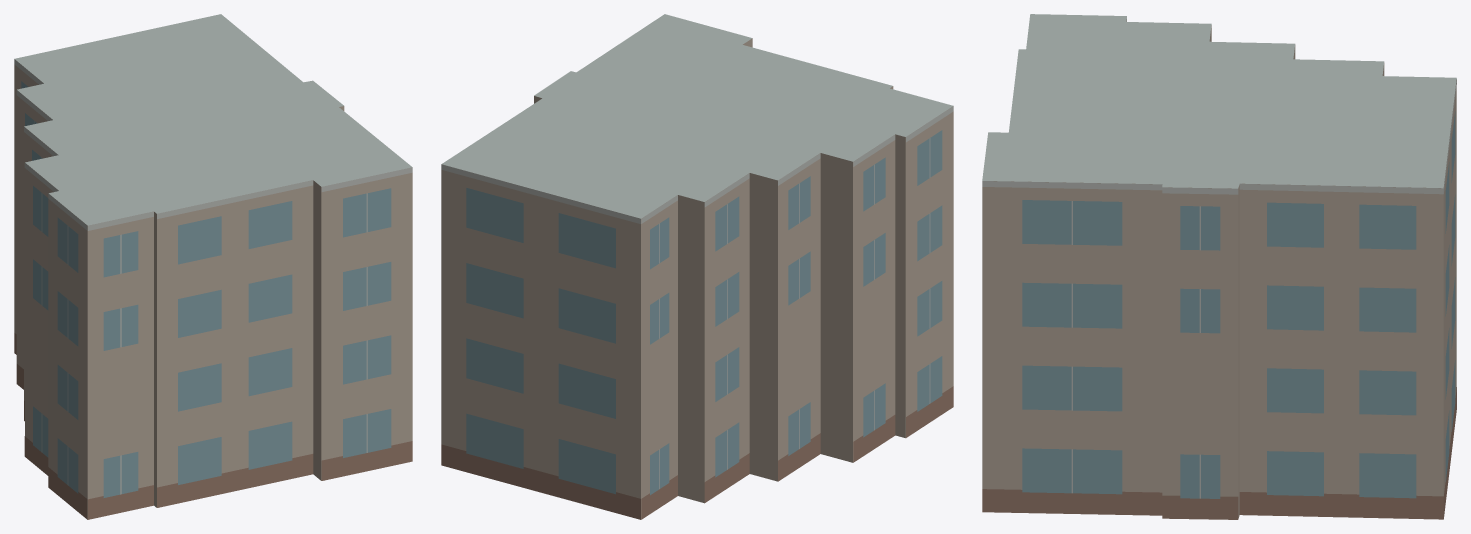
The model's file is survey-upis-32700165.glb.
3 views of the same model, side by side, from view 1: azimuth 30°, elevation 25°; view 2: azimuth 150°, elevation 25°; view 3: azimuth 270°, elevation 25° (orthographic). The views are drawn at different scales.
Visible parts, largest first — view 1: survey-upis-32700165.tmp; view 2: survey-upis-32700165.tmp; view 3: survey-upis-32700165.tmp.
Boxes of the visible parts, bbox=[...] form: survey-upis-32700165.tmp: bbox=[14, 14, 412, 519]; survey-upis-32700165.tmp: bbox=[441, 14, 953, 519]; survey-upis-32700165.tmp: bbox=[982, 14, 1456, 519].
Bounding box in the file's own units: 15.04 × 13.3 × 17.28.
